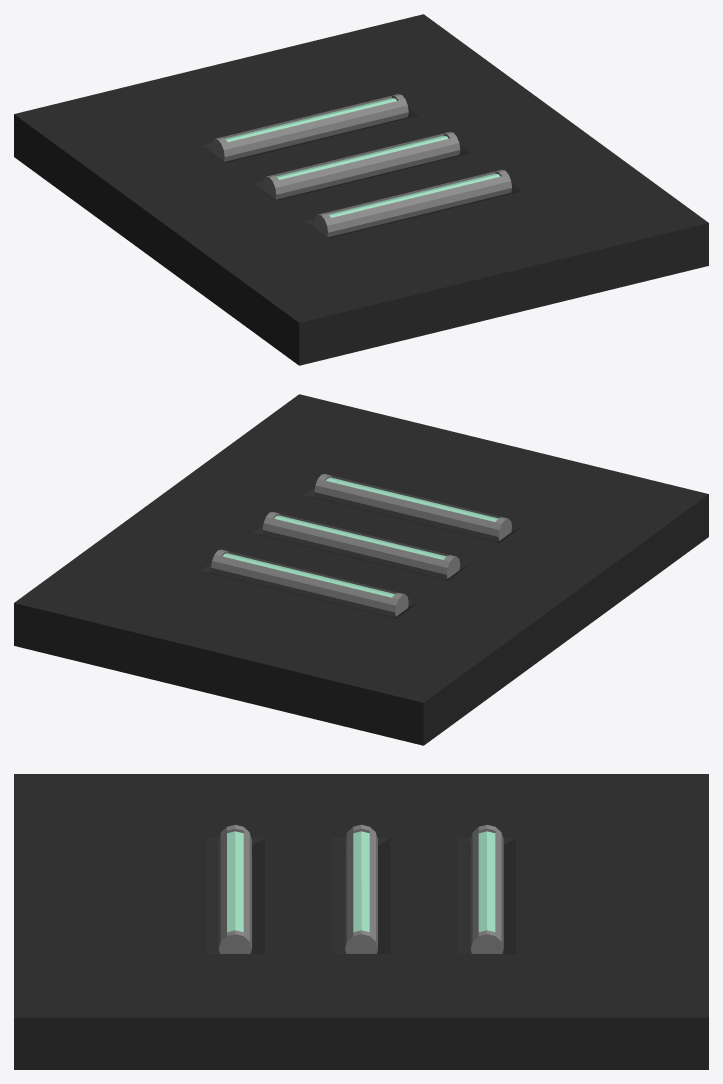
File: Cure.fbx
3 views of the same model, one above another, from view 1: azimuth 30°, elevation 25°; view 2: azimuth 150°, elevation 25°; view 3: azimuth 270°, elevation 25° (orthographic). The views are drawn at different scales.
Visible parts, largest first — view 1: Cube, Cylinder, Cylinder.001, Cylinder.002; view 2: Cube, Cylinder.002, Cylinder.001, Cylinder; view 3: Cube, Cylinder.001, Cylinder.002, Cylinder.
Boxes of the visible parts, x1,y1,x2,y2 form: Cube: (14,14,708,365); Cylinder: (262,132,460,199); Cylinder.001: (211,94,408,161); Cylinder.002: (314,169,511,237); Cube: (14,394,708,745); Cylinder.002: (314,474,511,541); Cylinder.001: (211,549,408,617); Cylinder: (262,512,460,579); Cube: (14,774,708,1069); Cylinder.001: (470,825,503,953); Cylinder.002: (218,824,251,953); Cylinder: (345,824,377,953).
Size of the model in its own units: 100 by 13.15 by 121.
